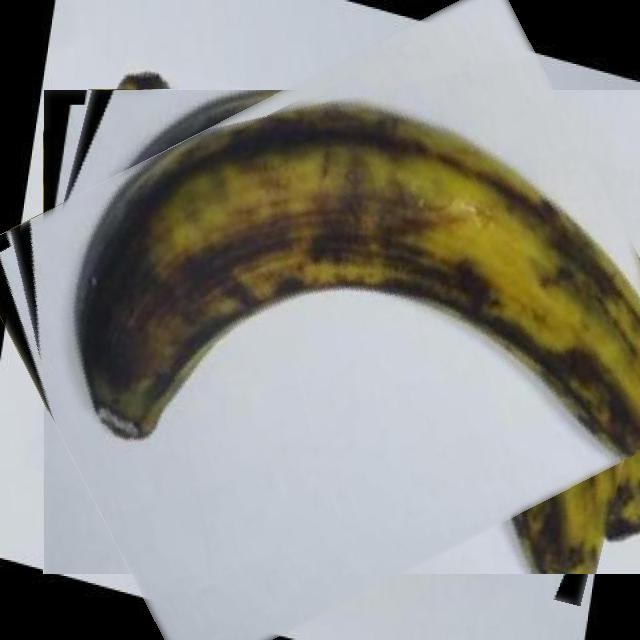Execivamente Madura: (4, 34, 640, 628)
